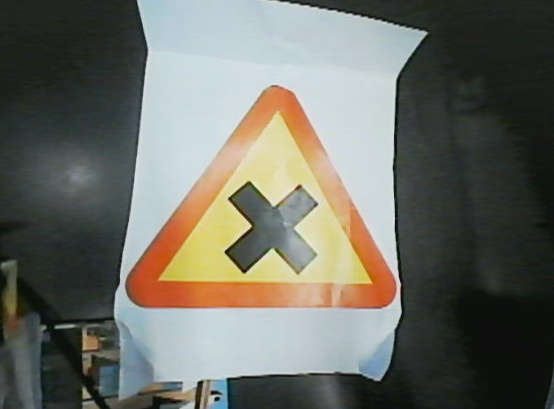junction: (107, 82, 407, 311)
